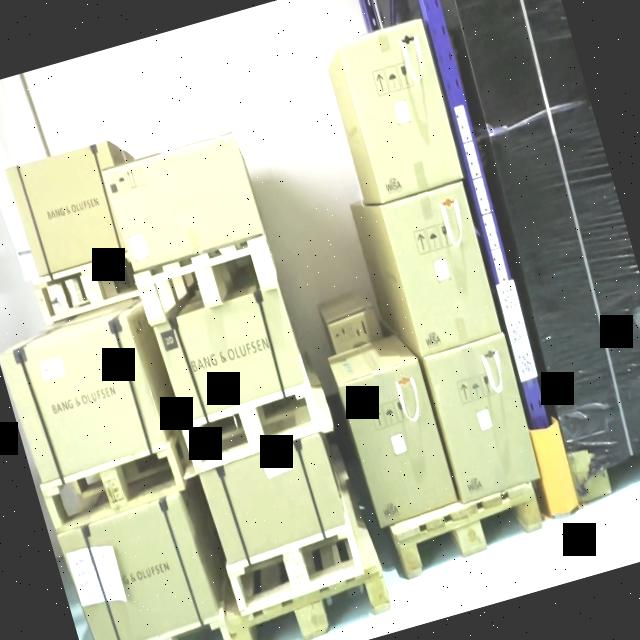box: (456, 0, 640, 450), (0, 318, 168, 482), (338, 22, 462, 198), (64, 495, 214, 640), (104, 134, 262, 268), (381, 182, 504, 350), (157, 289, 306, 420), (338, 364, 456, 522), (426, 338, 538, 497), (200, 440, 347, 560), (4, 138, 126, 275)
